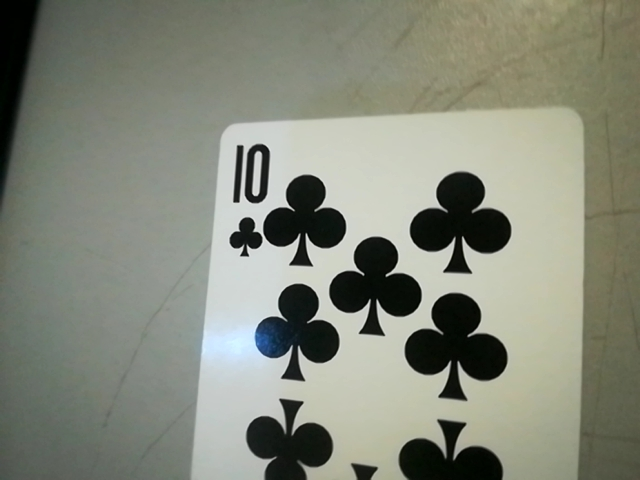mh 10: (216, 129, 276, 259)
